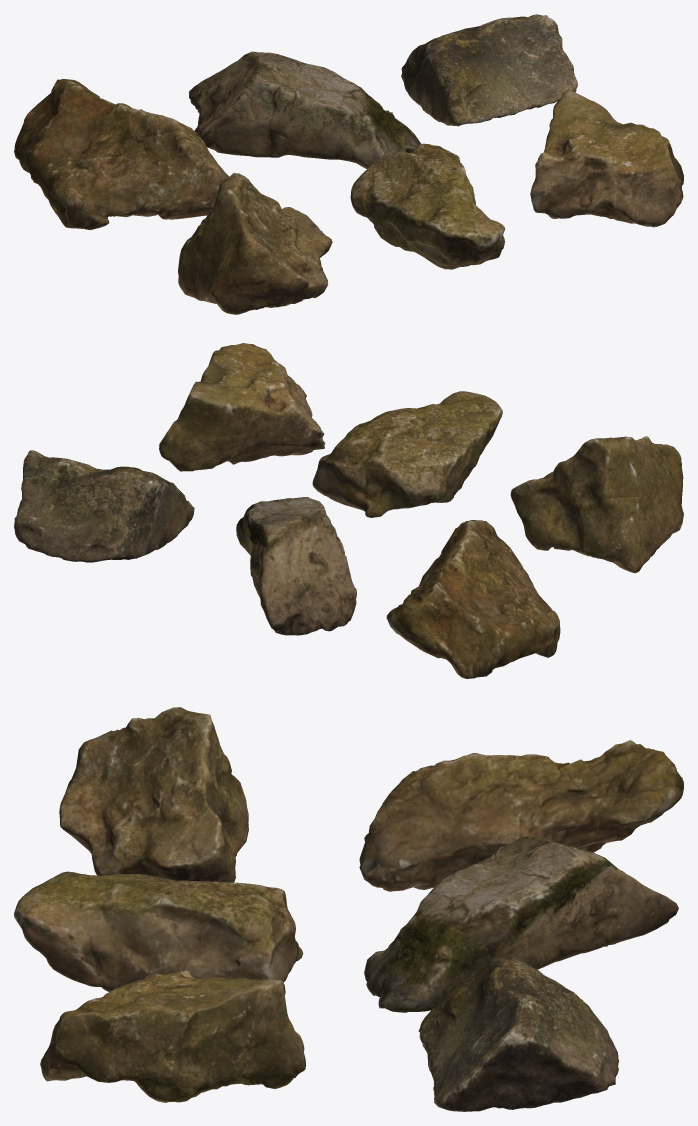
Rendered from rock_moss_set_01_1k.gltf.
3 views of the same model, one above another, from view 1: azimuth 30°, elevation 25°; view 2: azimuth 150°, elevation 25°; view 3: azimuth 270°, elevation 25° (orthographic). The views are drawn at different scales.
Visible parts, largest first — view 1: rock_moss_set_01_rock01, rock_moss_set_01_rock02, rock_moss_set_01_rock06, rock_moss_set_01_rock04, rock_moss_set_01_rock03, rock_moss_set_01_rock05; view 2: rock_moss_set_01_rock04, rock_moss_set_01_rock01, rock_moss_set_01_rock05, rock_moss_set_01_rock03, rock_moss_set_01_rock06, rock_moss_set_01_rock02; view 3: rock_moss_set_01_rock01, rock_moss_set_01_rock02, rock_moss_set_01_rock05, rock_moss_set_01_rock06, rock_moss_set_01_rock04, rock_moss_set_01_rock03.
Boxes of the visible parts, x1=… form: rock_moss_set_01_rock01: x1=14, y1=79, x2=229, y2=229; rock_moss_set_01_rock02: x1=189, y1=51, x2=421, y2=168; rock_moss_set_01_rock06: x1=530, y1=89, x2=683, y2=227; rock_moss_set_01_rock04: x1=178, y1=173, x2=332, y2=314; rock_moss_set_01_rock03: x1=401, y1=14, x2=577, y2=126; rock_moss_set_01_rock05: x1=350, y1=143, x2=505, y2=269; rock_moss_set_01_rock04: x1=510, y1=436, x2=683, y2=573; rock_moss_set_01_rock01: x1=386, y1=520, x2=560, y2=678; rock_moss_set_01_rock05: x1=312, y1=391, x2=502, y2=517; rock_moss_set_01_rock03: x1=14, y1=450, x2=194, y2=562; rock_moss_set_01_rock06: x1=159, y1=343, x2=325, y2=471; rock_moss_set_01_rock02: x1=236, y1=497, x2=356, y2=635; rock_moss_set_01_rock01: x1=359, y1=740, x2=683, y2=891; rock_moss_set_01_rock02: x1=364, y1=836, x2=678, y2=1012; rock_moss_set_01_rock05: x1=14, y1=871, x2=303, y2=991; rock_moss_set_01_rock06: x1=40, y1=970, x2=305, y2=1102; rock_moss_set_01_rock04: x1=59, y1=707, x2=248, y2=882; rock_moss_set_01_rock03: x1=418, y1=956, x2=618, y2=1111.
Bounding box in the file's own units: 8 × 1.77 × 6.94.
1 material, 1 textured.
